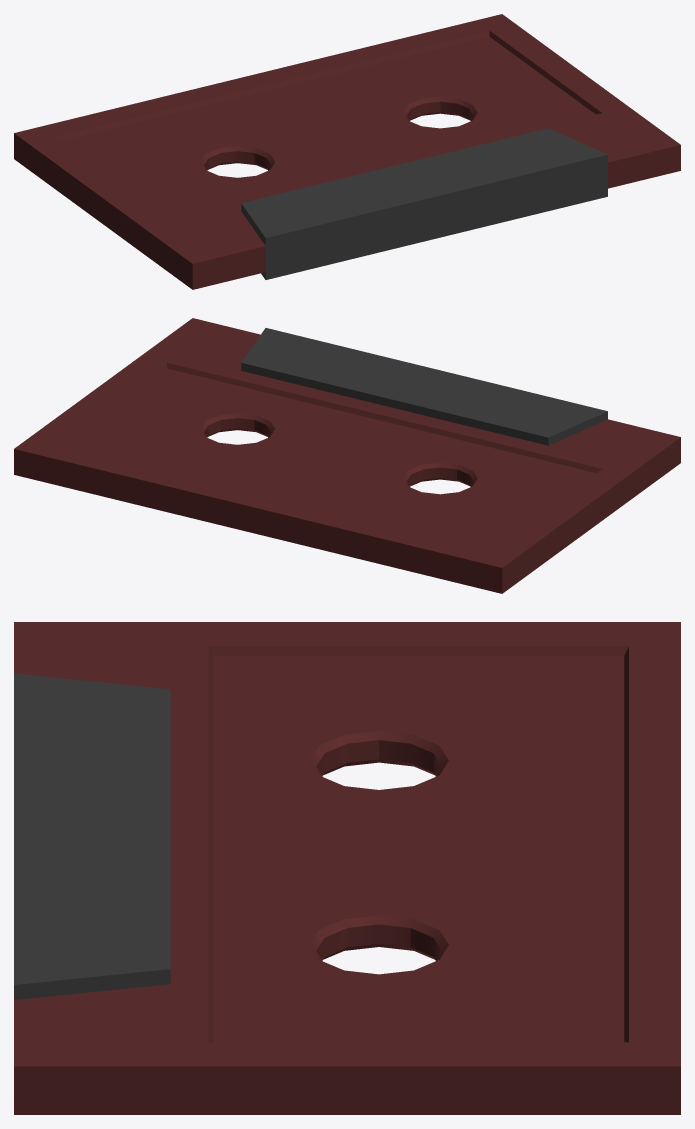
Rendered from Cassette.fbx.
3 views of the same model, one above another, from view 1: azimuth 30°, elevation 25°; view 2: azimuth 150°, elevation 25°; view 3: azimuth 270°, elevation 25° (orthographic). The views are drawn at different scales.
Parts seen in each view (by area): view 1: Cassette; view 2: Cassette; view 3: Cassette.
Part boxes in pixels (bbox=[...]): Cassette: bbox=[14, 14, 680, 289]; Cassette: bbox=[14, 318, 680, 593]; Cassette: bbox=[14, 622, 680, 1114].
Size of the model in its own units: 18.57 by 1.53 by 11.78.
